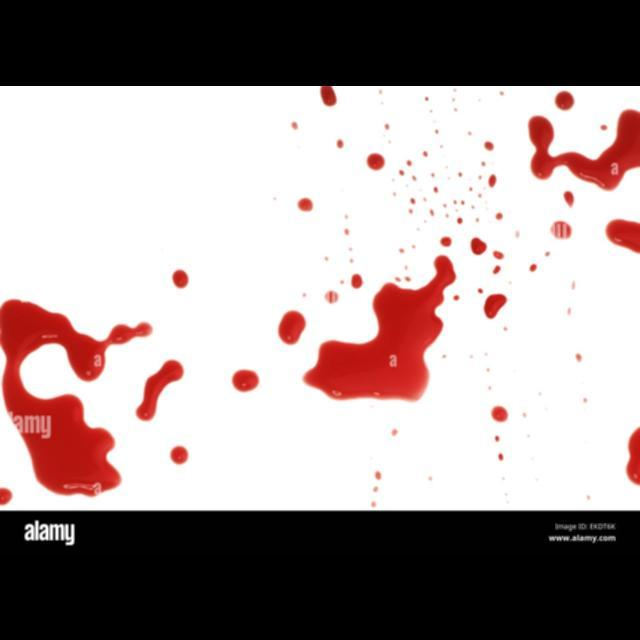blood: (0, 298, 153, 496), (302, 254, 456, 401), (527, 108, 640, 190), (135, 358, 184, 420), (605, 217, 639, 252), (278, 309, 306, 344), (232, 368, 259, 392), (483, 293, 507, 318), (554, 89, 574, 110), (170, 444, 189, 464), (366, 151, 385, 169), (320, 85, 337, 105), (172, 269, 189, 288), (470, 236, 487, 254), (491, 405, 508, 421), (0, 486, 13, 505), (297, 196, 313, 211), (563, 189, 574, 207), (351, 272, 363, 288), (440, 236, 451, 246)
